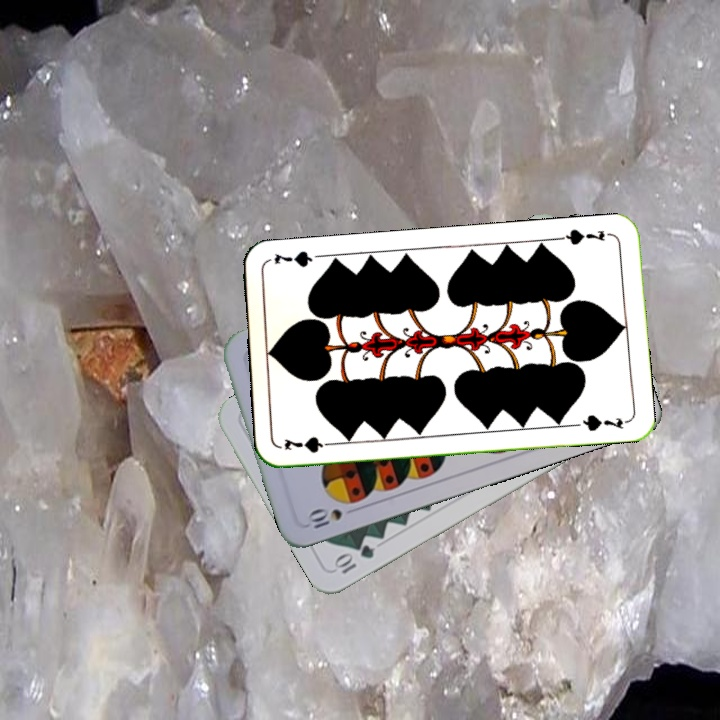G10: (330, 540, 377, 577)
G7: (280, 432, 339, 456), (555, 225, 607, 248)
S10: (302, 503, 361, 533)
